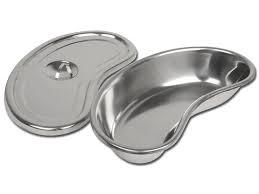Kidney Tray: (92, 42, 256, 166), (2, 26, 132, 139)
